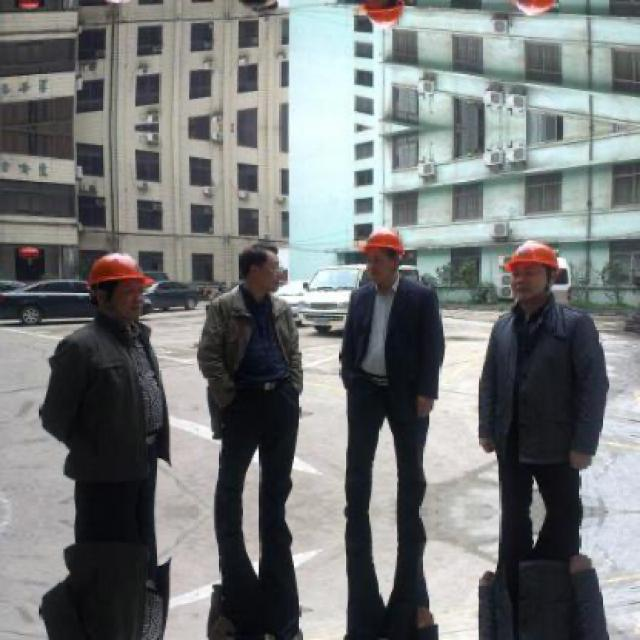helmet: (77, 250, 158, 321), (491, 236, 571, 304), (354, 218, 411, 286), (354, 0, 412, 40), (489, 0, 571, 22)
